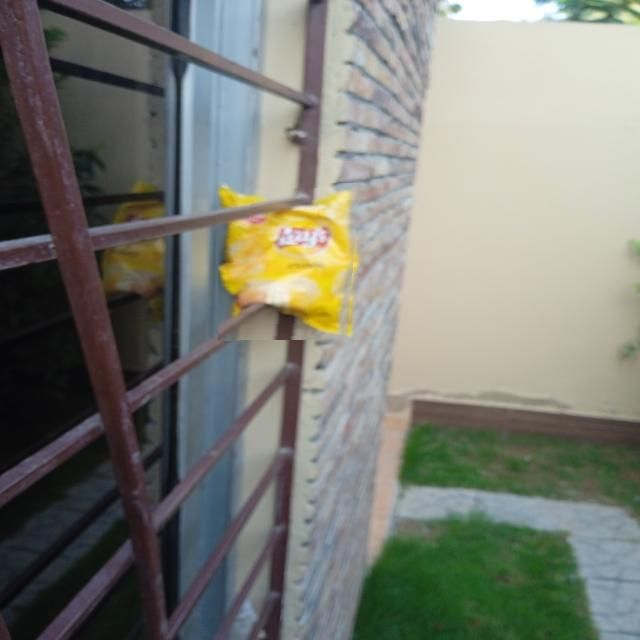Plastic: (218, 183, 360, 341)
